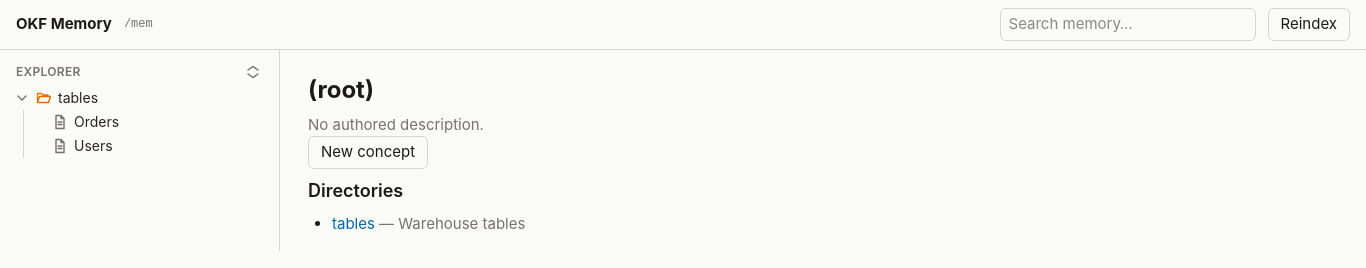
Test case: search › surfaces a not-configured error
Type "x" into the search field.
click(1128, 24); type("x")  # box [1000,8,1256,40]
Then press Enter
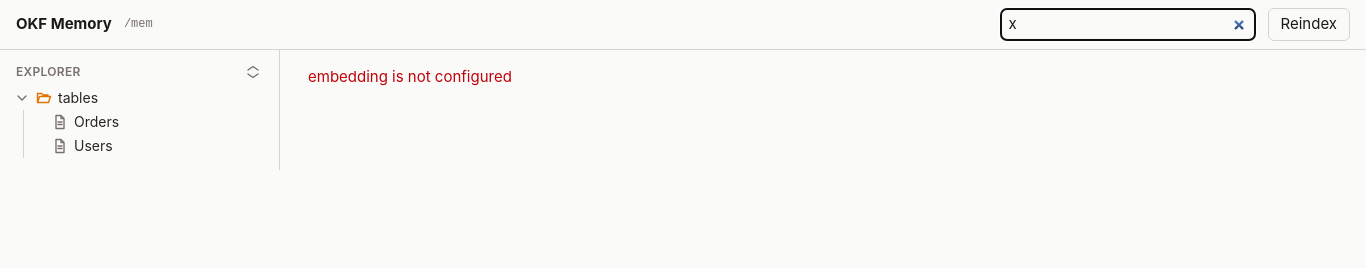
expect the message reads "embedding is not configured": met, box [308,66,512,86]
